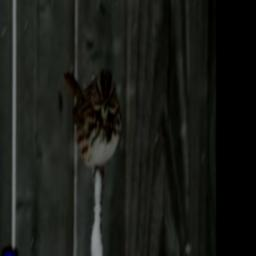Sparrow: (63, 67, 123, 184)
